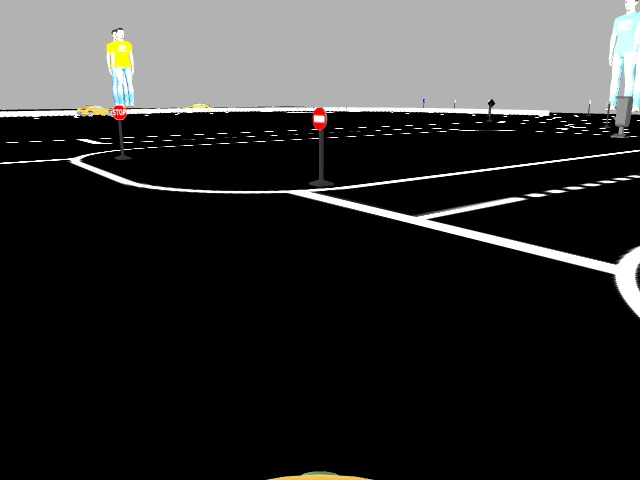NoEntry: (311, 107, 325, 129)
Stop: (110, 106, 124, 119)
